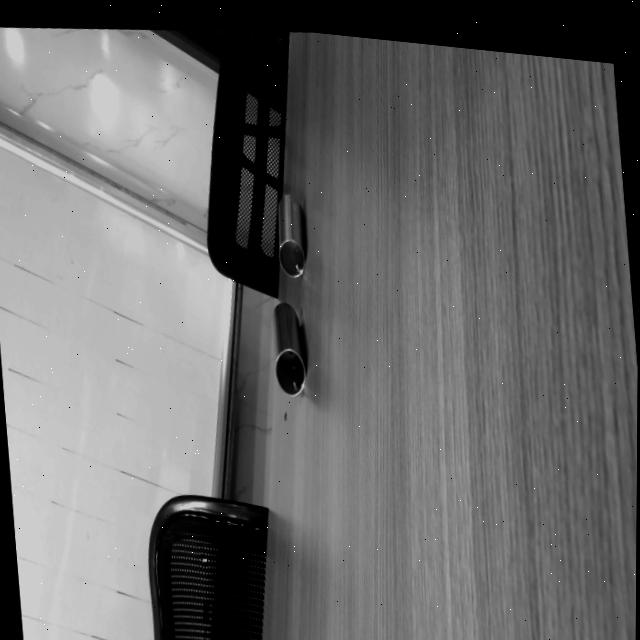Co_Lon: (268, 301, 307, 397)
Co_Nho: (273, 193, 306, 278)
